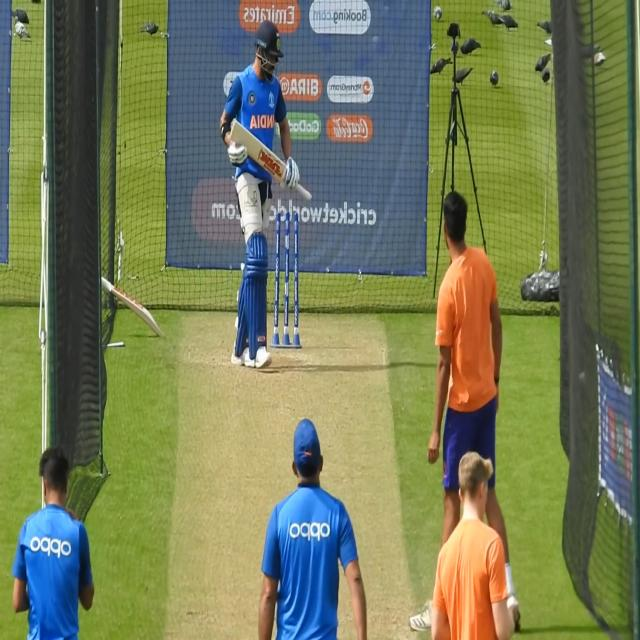stump: (272, 209, 299, 350)
